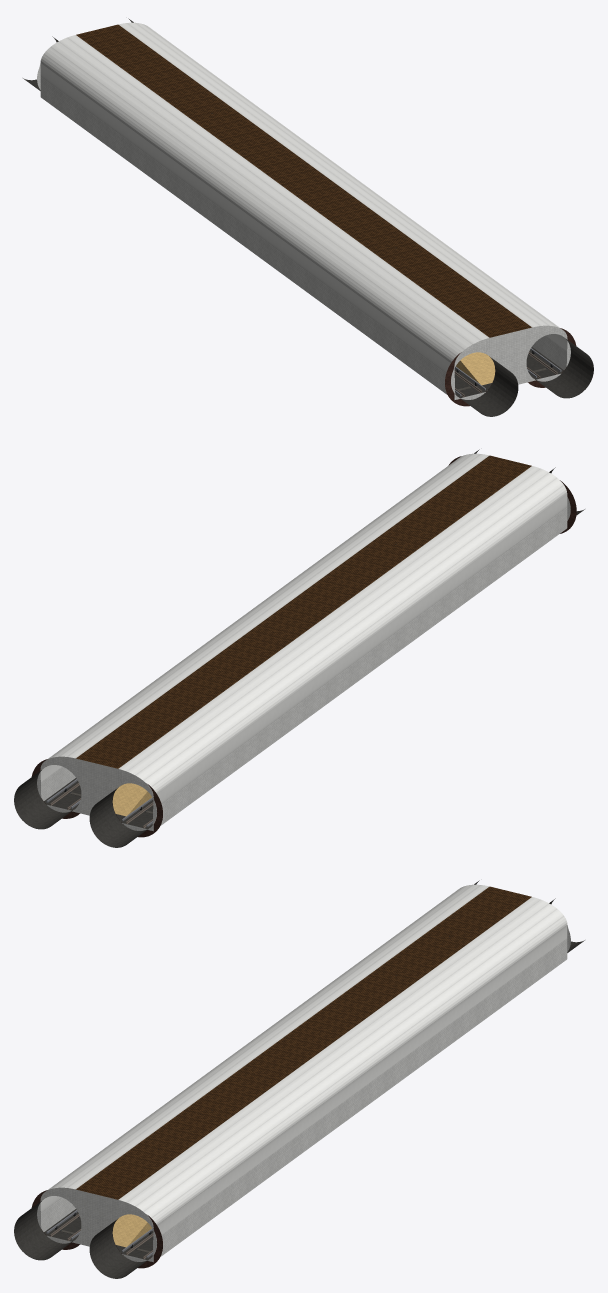
File: station_kinning-park.glb
3 renders of one model, top to bottom at view 1: azimuth 30°, elevation 25°; view 2: azimuth 150°, elevation 25°; view 3: azimuth 330°, elevation 25°, orthographic.
Visible parts, largest first — view 1: hall_shell, end_walls; view 2: hall_shell, end_walls; view 3: hall_shell, end_walls.
Boxes of the visible parts, x1=… form: hall_shell: x1=40, y1=22, x2=567, y2=399; end_walls: x1=23, y1=18, x2=593, y2=416; hall_shell: x1=40, y1=453, x2=567, y2=830; end_walls: x1=14, y1=449, x2=584, y2=847; hall_shell: x1=40, y1=884, x2=567, y2=1261; end_walls: x1=14, y1=880, x2=584, y2=1278.
Bounding box in the file's own units: 9.94 × 4.65 × 60.
29 materials, 20 textured.
